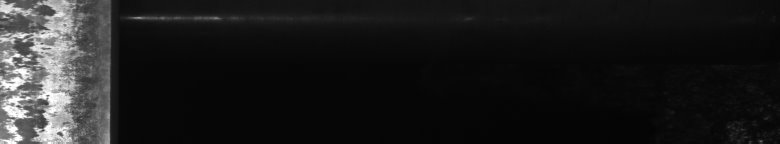kb: (4, 4, 92, 136)
